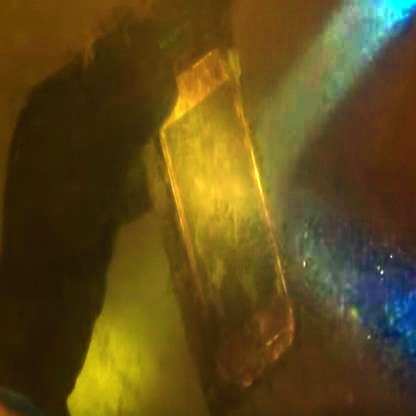cellphone: (154, 46, 297, 395)
